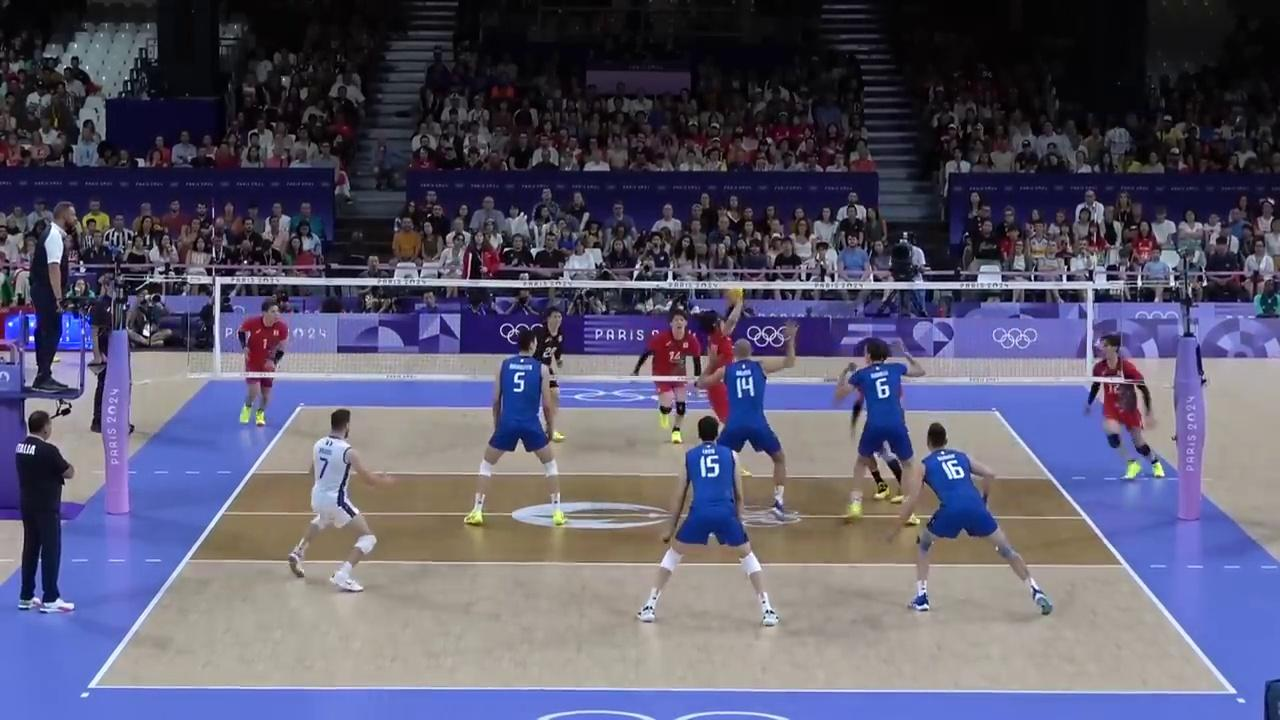ball: (725, 289, 744, 303)
